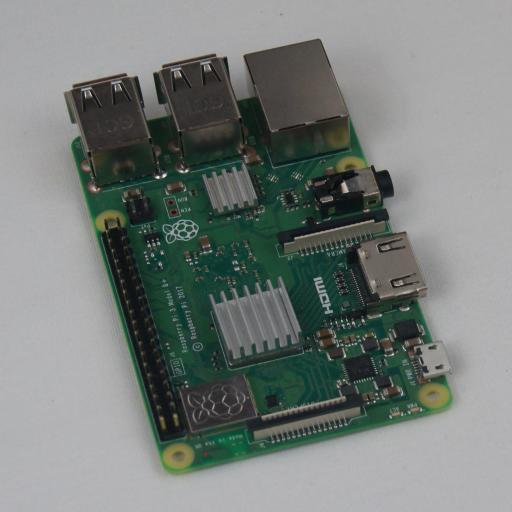Raspberry Pi 3 B-: (64, 39, 451, 472)
